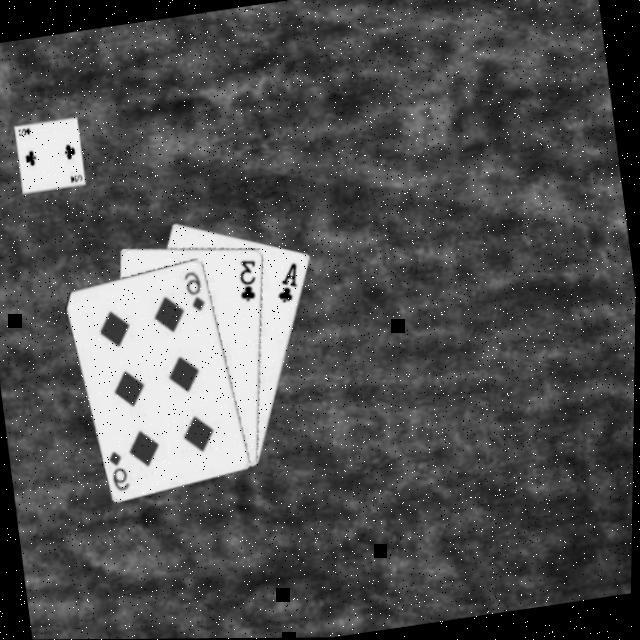3C: (232, 253, 264, 303)
6D: (179, 265, 209, 314), (104, 444, 134, 492)
AC: (269, 256, 305, 304)
